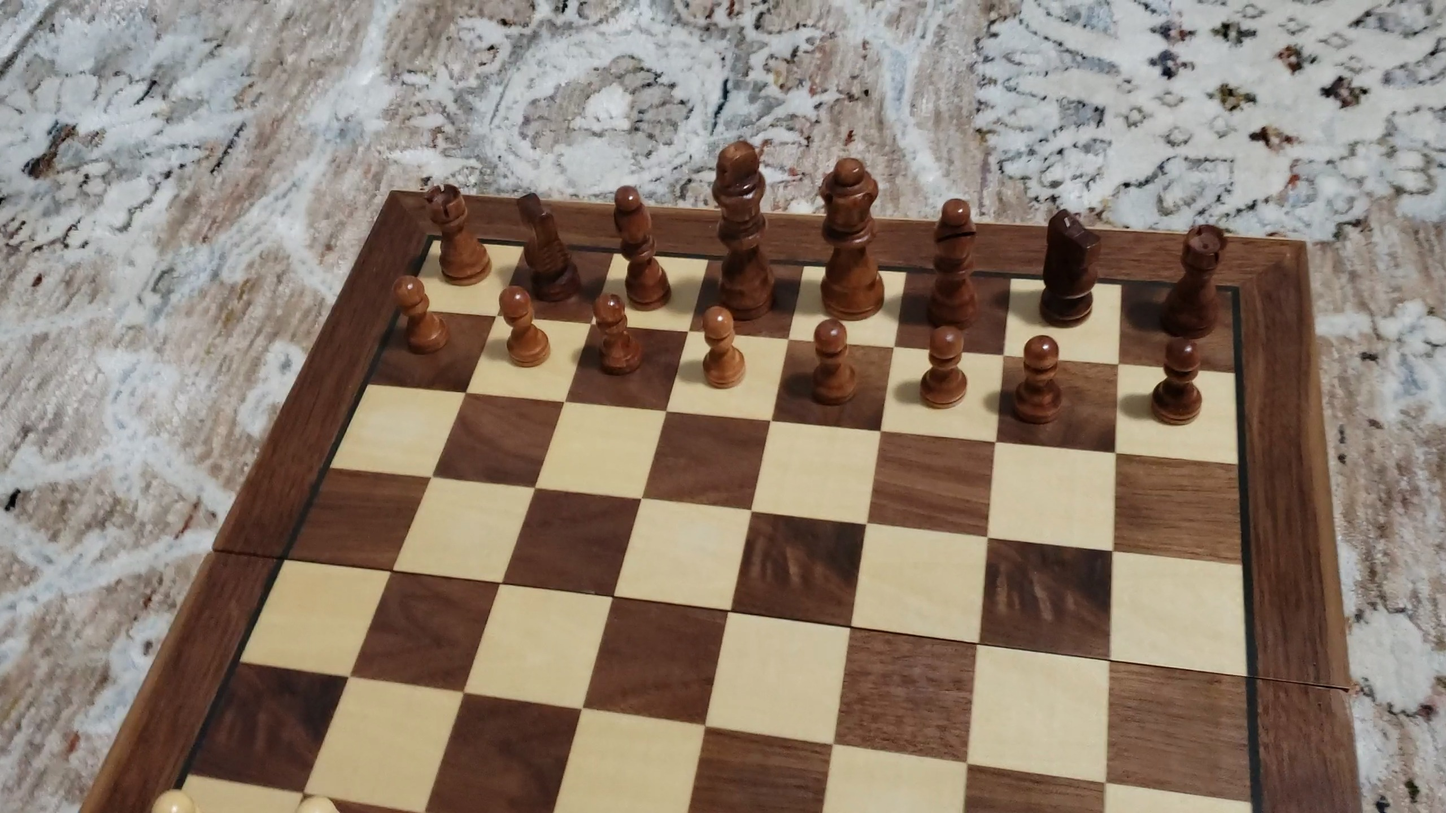black-bishop: (926, 196, 982, 328), (612, 182, 669, 307)
black-king: (707, 134, 777, 319)
black-knight: (1036, 206, 1105, 325), (514, 189, 578, 302)
black-pawn: (1149, 336, 1206, 427), (1010, 333, 1065, 427), (390, 273, 447, 356), (497, 283, 551, 369), (591, 291, 643, 378), (919, 324, 970, 411), (811, 316, 859, 407), (699, 304, 746, 391)
black-queen: (815, 152, 886, 320)
black-rook: (1157, 221, 1227, 339), (422, 181, 490, 284)
